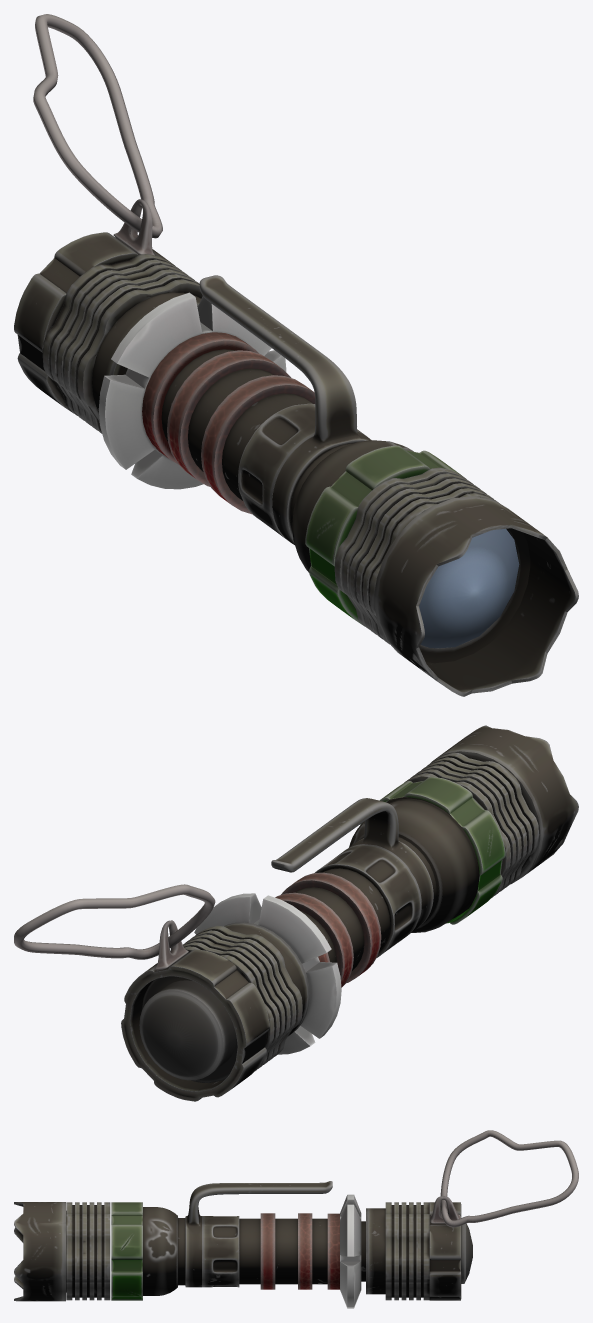
Rendered from flashLight.fbx.
3 views of the same model, one above another, from view 1: azimuth 30°, elevation 25°; view 2: azimuth 150°, elevation 25°; view 3: azimuth 270°, elevation 25° (orthographic). The views are drawn at different scales.
Visible parts, largest first — view 1: 1_lp, 9_lp, 10_lp, 12_lp, 6_lp, 3_lp, 2_lp, 4_lp, 13_lp, 16_lp, 8_lp, 7_lp (+3 smaller); view 2: 13_lp, 14_lp, 10_lp, 1_lp, 5_lp, 3_lp, 12_lp, 6_lp, 4_lp, 9_lp, 16_lp, 7_lp (+3 smaller); view 3: 1_lp, 3_lp, 12_lp, 8_lp, 5_lp, 9_lp, 4_lp, 6_lp, 7_lp, 13_lp, 16_lp, 10_lp (+3 smaller).
Part boxes in pixels (x1,y1,x2,y2): 1_lp: [374, 496, 578, 696]; 9_lp: [142, 332, 315, 514]; 10_lp: [98, 292, 286, 489]; 12_lp: [42, 254, 202, 433]; 6_lp: [199, 275, 371, 544]; 3_lp: [334, 467, 499, 644]; 2_lp: [419, 529, 519, 648]; 4_lp: [305, 445, 464, 626]; 13_lp: [14, 232, 175, 413]; 16_lp: [33, 14, 162, 238]; 8_lp: [161, 349, 312, 500]; 7_lp: [238, 403, 369, 543]; 13_lp: [121, 949, 269, 1101]; 14_lp: [139, 976, 237, 1082]; 10_lp: [194, 893, 341, 1054]; 1_lp: [430, 725, 578, 884]; 5_lp: [349, 797, 479, 932]; 3_lp: [404, 752, 539, 897]; 12_lp: [183, 925, 302, 1070]; 6_lp: [271, 798, 433, 932]; 4_lp: [360, 776, 505, 924]; 9_lp: [275, 872, 381, 987]; 16_lp: [14, 884, 215, 959]; 7_lp: [315, 844, 421, 957]; 1_lp: [14, 1202, 66, 1301]; 3_lp: [66, 1202, 110, 1300]; 12_lp: [385, 1202, 429, 1300]; 8_lp: [239, 1218, 327, 1284]; 5_lp: [142, 1207, 185, 1295]; 9_lp: [260, 1213, 339, 1289]; 4_lp: [111, 1202, 142, 1300]; 6_lp: [185, 1181, 332, 1287]; 7_lp: [202, 1216, 239, 1287]; 13_lp: [429, 1202, 461, 1300]; 16_lp: [440, 1130, 578, 1227]; 10_lp: [340, 1194, 361, 1308].
Bounding box in the file's own units: 582 × 869 × 2567.
1 material, 1 textured.
